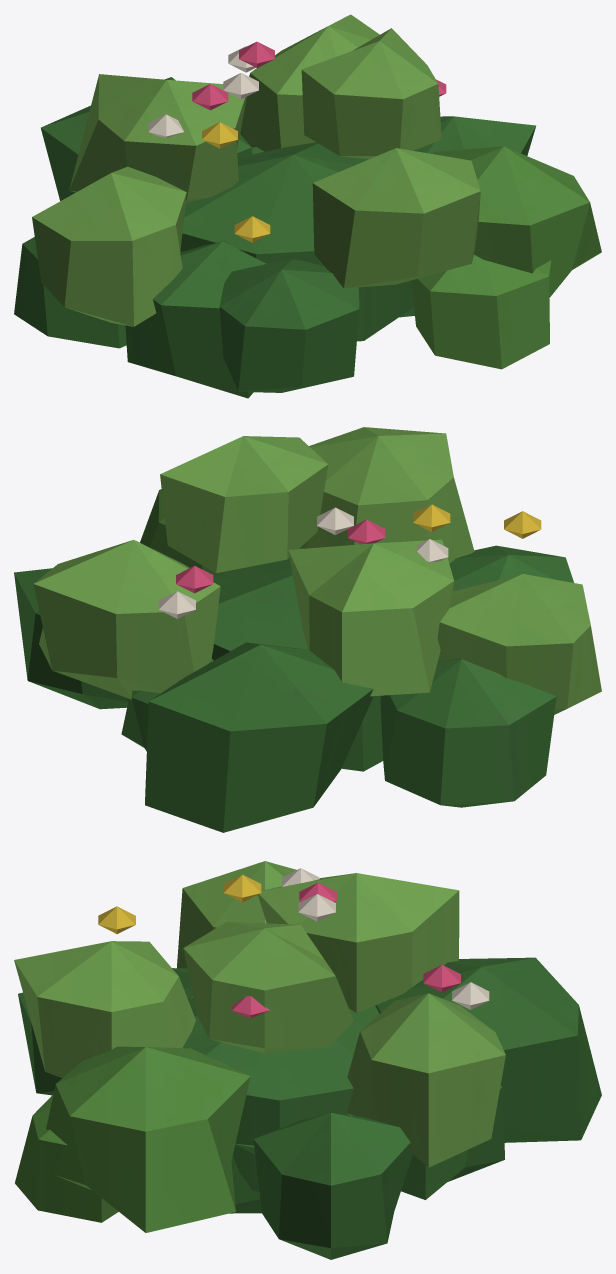
The model's file is bush_02.glb.
The picture shows the model from 3 angles, top to bottom: view 1: azimuth 30°, elevation 25°; view 2: azimuth 150°, elevation 25°; view 3: azimuth 270°, elevation 25°; orthographic projection. The views are drawn at different scales.
Parts seen in each view (by area): view 1: bush_02; view 2: bush_02; view 3: bush_02.
Part boxes in pixels (x1,y1,x2,y2): bush_02: (14,14,601,398); bush_02: (14,427,601,832); bush_02: (14,861,601,1259).
Size of the model in its own units: 2.04 by 1.07 by 1.9.
6 materials, 6 textured.
